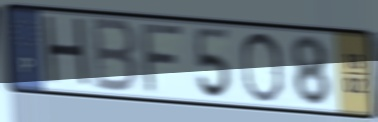5: (191, 24, 234, 101)
8: (289, 32, 333, 110)
B: (91, 14, 140, 96)
F: (140, 22, 188, 96)
H: (40, 13, 94, 93)
O: (238, 30, 285, 105)
